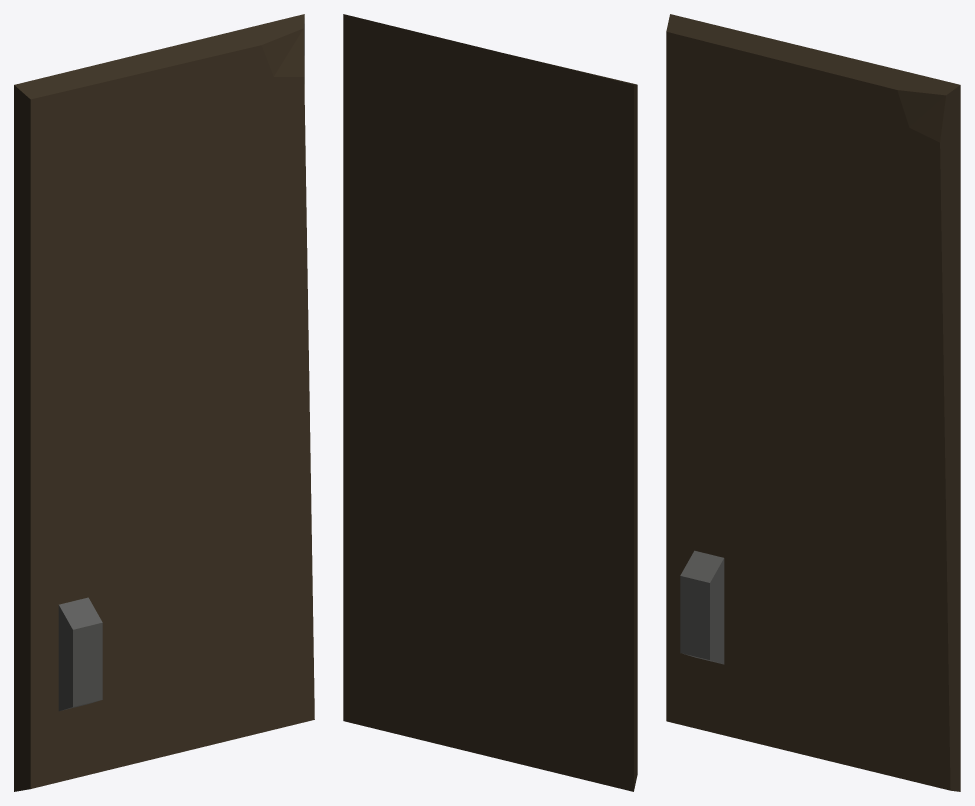
Rendered from SM_Prop_Wardrobe_01_Door_01.glb.
3 renders of one model, left to right at view 1: azimuth 30°, elevation 25°; view 2: azimuth 150°, elevation 25°; view 3: azimuth 330°, elevation 25°, orthographic.
Parts seen in each view (by area): view 1: SM_Prop_Wardrobe_01_Door_01; view 2: SM_Prop_Wardrobe_01_Door_01; view 3: SM_Prop_Wardrobe_01_Door_01.
Boxes of the visible parts, x1,y1,x2,y2 form: SM_Prop_Wardrobe_01_Door_01: [14, 14, 314, 791]; SM_Prop_Wardrobe_01_Door_01: [343, 14, 637, 791]; SM_Prop_Wardrobe_01_Door_01: [666, 14, 960, 791].
Bounding box in the file's own units: 0.537 × 1.25 × 0.078.
1 material, 1 textured.
